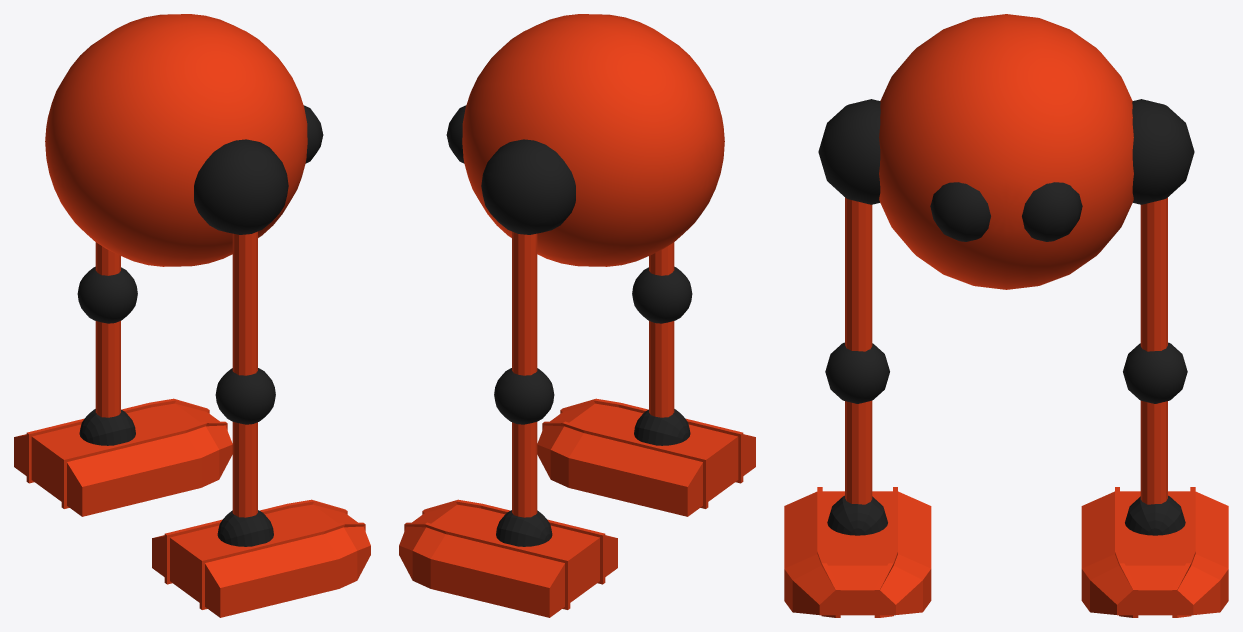
Rendered from Robo.fbx.
The picture shows the model from 3 angles, left to right: view 1: azimuth 30°, elevation 25°; view 2: azimuth 150°, elevation 25°; view 3: azimuth 270°, elevation 25°; orthographic projection. The views are drawn at different scales.
Parts seen in each view (by area): view 1: Sphere.001, Cube.010, Sphere.002, Sphere.004, Cylinder.008, Cylinder.006, Sphere.005, Sphere.006; view 2: Sphere.001, Cube.010, Sphere.002, Sphere.004, Cylinder.008, Cylinder.006, Sphere.005, Sphere.006; view 3: Sphere.001, Cube.010, Sphere.002, Cylinder.006, Sphere.004, Cylinder.008, Sphere.006, Sphere.005.
Boxes of the visible parts, x1=… form: Sphere.001: x1=45, y1=14, x2=307, y2=266; Cube.010: x1=14, y1=398, x2=370, y2=617; Sphere.002: x1=194, y1=139, x2=288, y2=234; Sphere.004: x1=77, y1=266, x2=275, y2=424; Cylinder.008: x1=95, y1=321, x2=257, y2=517; Cylinder.006: x1=95, y1=231, x2=257, y2=375; Sphere.005: x1=79, y1=409, x2=273, y2=546; Sphere.006: x1=303, y1=105, x2=323, y2=163; Sphere.001: x1=462, y1=14, x2=724, y2=266; Cube.010: x1=399, y1=398, x2=755, y2=617; Sphere.002: x1=481, y1=139, x2=575, y2=234; Sphere.004: x1=494, y1=266, x2=692, y2=424; Cylinder.008: x1=512, y1=321, x2=674, y2=517; Cylinder.006: x1=512, y1=231, x2=674, y2=375; Sphere.005: x1=496, y1=409, x2=690, y2=546; Sphere.006: x1=446, y1=105, x2=466, y2=163; Sphere.001: x1=879, y1=14, x2=1133, y2=289; Cube.010: x1=784, y1=487, x2=1228, y2=617; Sphere.002: x1=818, y1=99, x2=1194, y2=204; Cylinder.006: x1=845, y1=197, x2=1167, y2=351; Sphere.004: x1=825, y1=342, x2=1187, y2=403; Cylinder.008: x1=845, y1=400, x2=1167, y2=504; Sphere.006: x1=930, y1=182, x2=1082, y2=241; Sphere.005: x1=827, y1=495, x2=1185, y2=535.
Bounding box in the file's own units: 532 × 1076 × 795.
